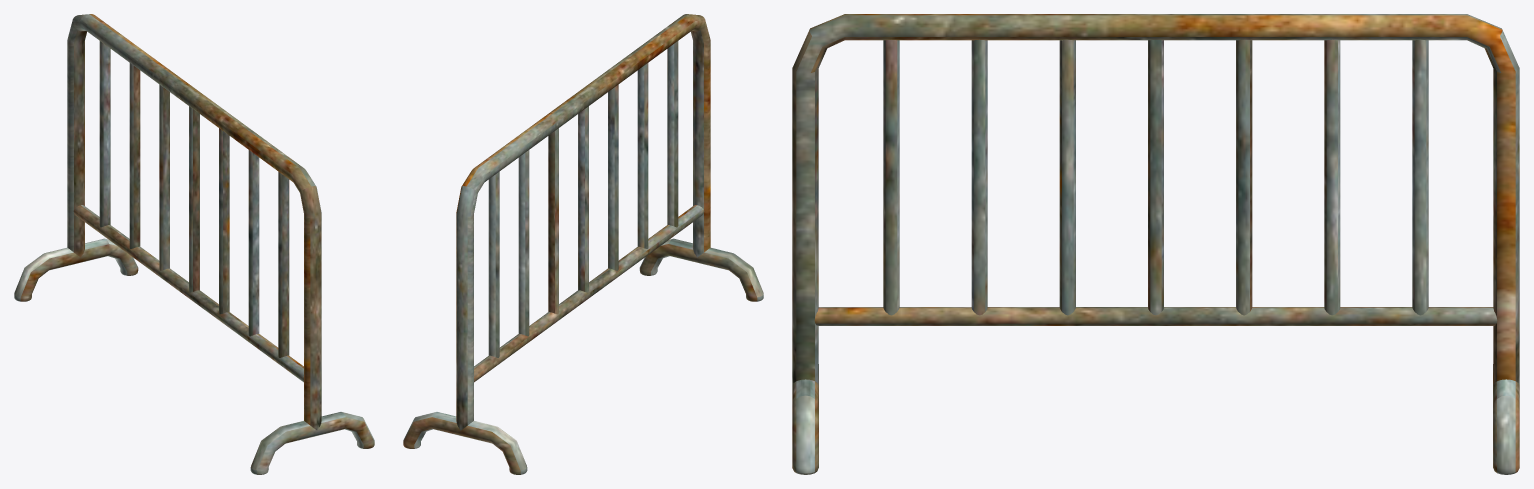
Rendered from MetalBarrier.FBX.
3 views of the same model, side by side, from view 1: azimuth 30°, elevation 25°; view 2: azimuth 150°, elevation 25°; view 3: azimuth 270°, elevation 25° (orthographic). The views are drawn at different scales.
Visible parts, largest first — view 1: Fence_Cylinder_001; view 2: Fence_Cylinder_001; view 3: Fence_Cylinder_001.
Part boxes in pixels (x1,y1,x2,y2): Fence_Cylinder_001: [14, 14, 374, 474]; Fence_Cylinder_001: [403, 14, 763, 474]; Fence_Cylinder_001: [792, 14, 1519, 474].
Size of the model in its own units: 4.72 by 10.43 by 16.5.
1 material, 1 textured.
